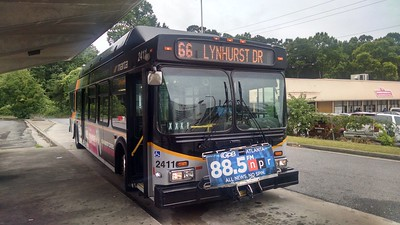bus: (69, 24, 299, 208)
